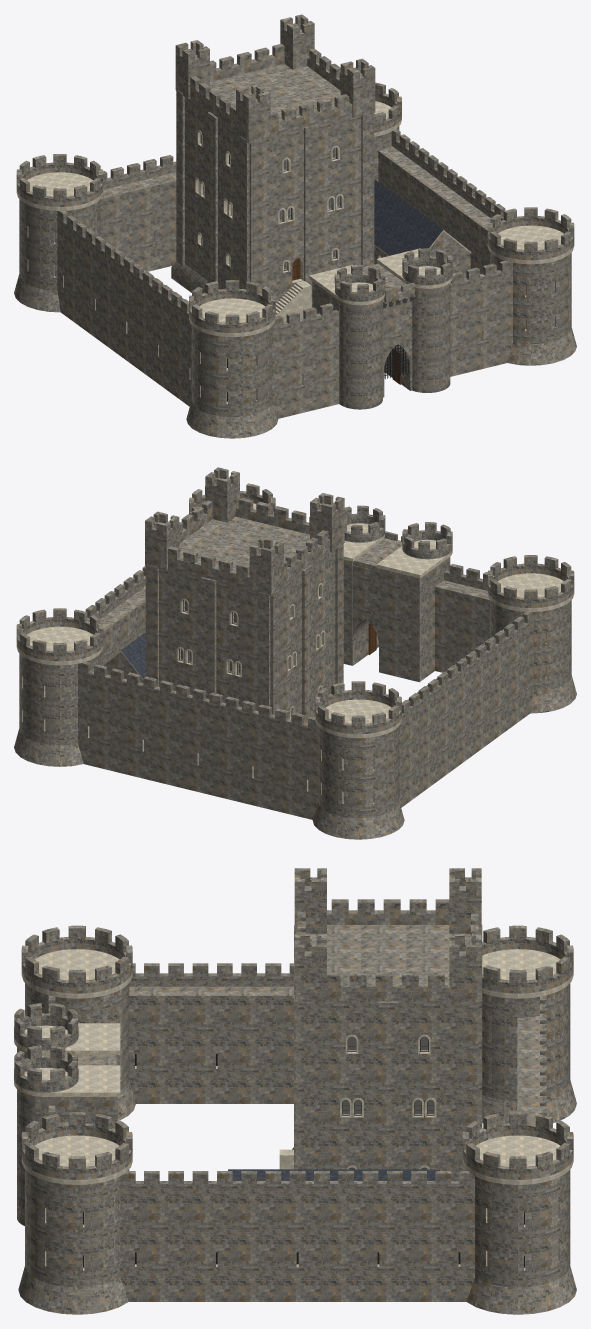
File: castle-with-keep-cc0.glb
3 renders of one model, top to bottom at view 1: azimuth 30°, elevation 25°; view 2: azimuth 150°, elevation 25°; view 3: azimuth 270°, elevation 25°, orthographic. The views are drawn at different scales.
Parts seen in each view (by area): view 1: Curtain walls, Battlements, Keep, Corner towers, Gatehouse, Pilaster buttresses, Keep turrets, Roofs, Great hall, Dressings, Forestair; view 2: Curtain walls, Battlements, Corner towers, Keep, Gatehouse, Pilaster buttresses, Keep turrets, Dressings, Roofs; view 3: Curtain walls, Corner towers, Battlements, Keep, Pilaster buttresses, Gatehouse, Keep turrets, Roofs, Dressings, Glazing.
Part boxes in pixels (box(x1,y1,x2,y2)): Curtain walls: box(54, 145, 512, 418); Battlements: box(16, 14, 574, 335); Keep: box(171, 63, 361, 307); Corner towers: box(14, 101, 576, 438); Gatehouse: box(309, 248, 452, 409); Pilaster buttresses: box(176, 89, 374, 298); Keep turrets: box(175, 29, 375, 143); Roofs: box(374, 179, 471, 255); Great hall: box(374, 231, 470, 278); Dressings: box(195, 130, 380, 273); Forestair: box(275, 280, 311, 321); Curtain walls: box(78, 580, 533, 819); Battlements: box(16, 467, 574, 736); Corner towers: box(14, 503, 576, 839); Keep: box(159, 516, 335, 718); Gatehouse: box(343, 523, 452, 682); Pilaster buttresses: box(145, 542, 343, 723); Keep turrets: box(145, 485, 344, 596); Dressings: box(176, 583, 325, 718); Roofs: box(102, 632, 145, 680); Curtain walls: box(59, 986, 539, 1301); Corner towers: box(18, 949, 576, 1314); Battlements: box(14, 868, 573, 1194); Keep: box(292, 925, 478, 1180); Pilaster buttresses: box(294, 925, 482, 1170); Gatehouse: box(14, 1023, 120, 1225); Keep turrets: box(294, 886, 481, 1004); Roofs: box(228, 1169, 435, 1180); Dressings: box(340, 1034, 436, 1169); Glazing: box(342, 1037, 433, 1168).
Bounding box in the file's own units: 49.34 × 29.1 × 49.72.
Materials: 8 (8 with a texture image).
